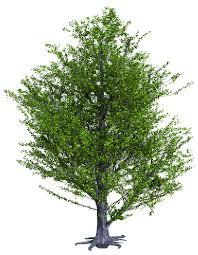plant: (18, 10, 192, 249)
